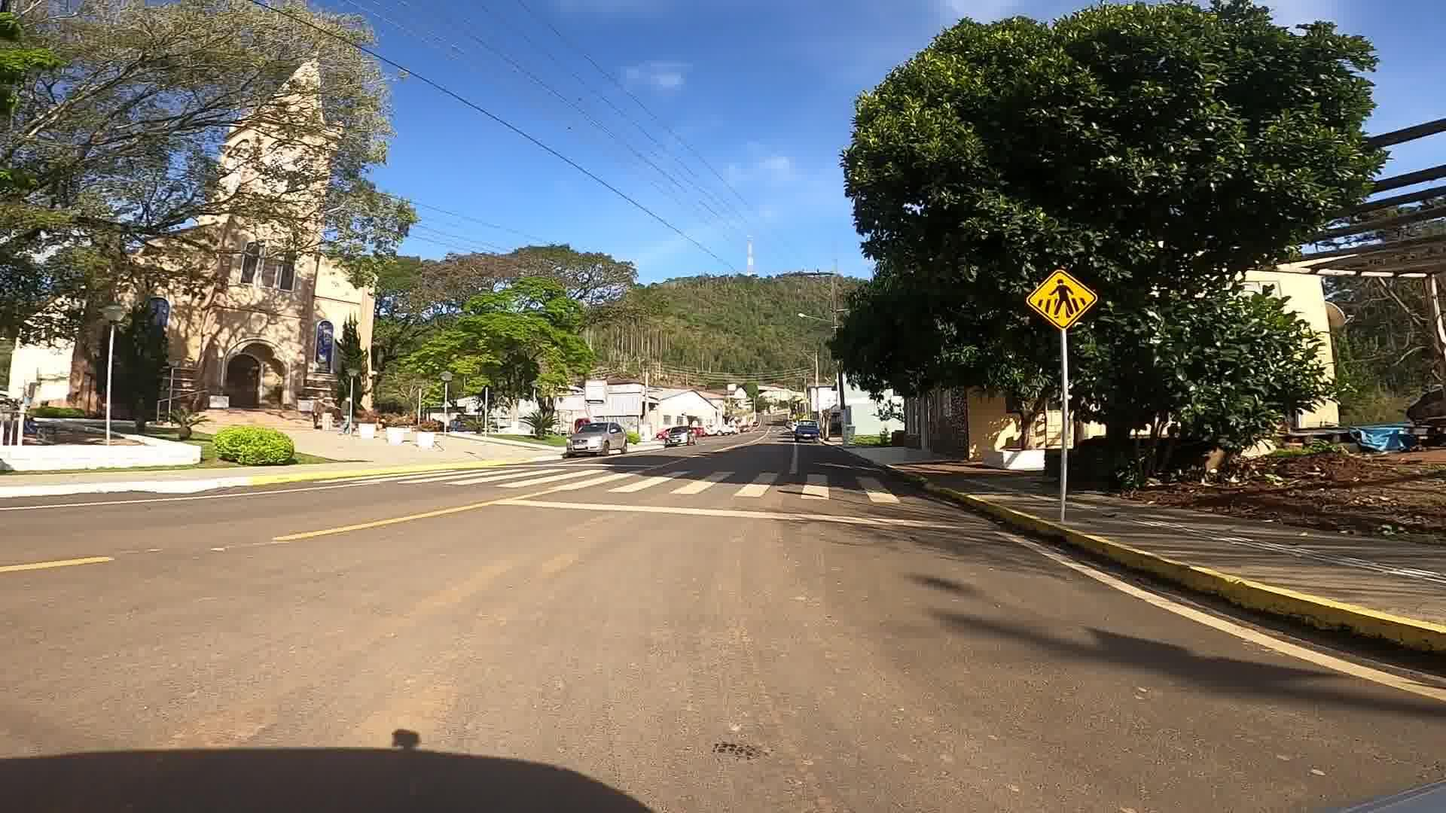A-32b: (1025, 264, 1100, 335)
